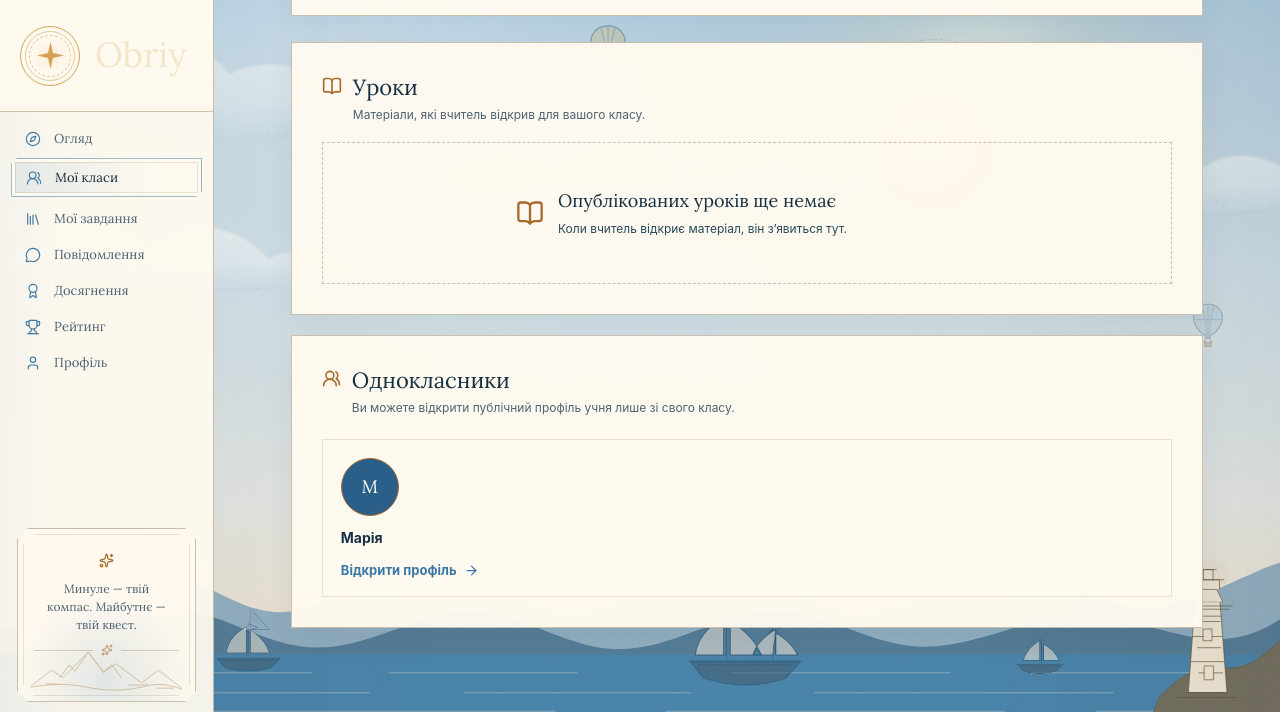
Test case: AppRouter auth boundaries › shows only same-class students and opens a classmate profile
This screenshot has width=1280, height=712.
(page scrolled)
Click the link "Відкрити профіль": (410, 570) left=341, top=562, right=479, bottom=578
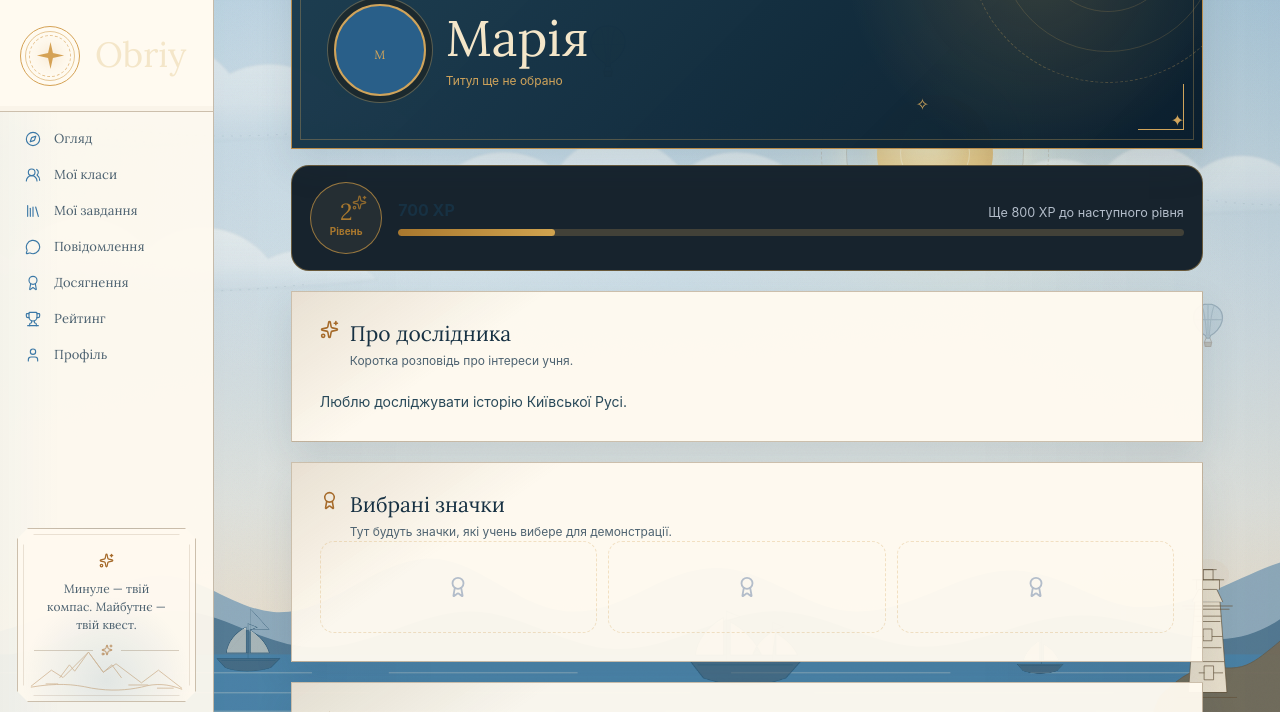
Check: the heading "Марія" is shown, box left=446, top=12, right=589, bottom=64
Check: the text "Люблю досліджувати історію Київської Русі." is shown, box left=320, top=393, right=627, bottom=410
Check: the text "Рівень" is shown, box left=330, top=226, right=362, bottom=236
